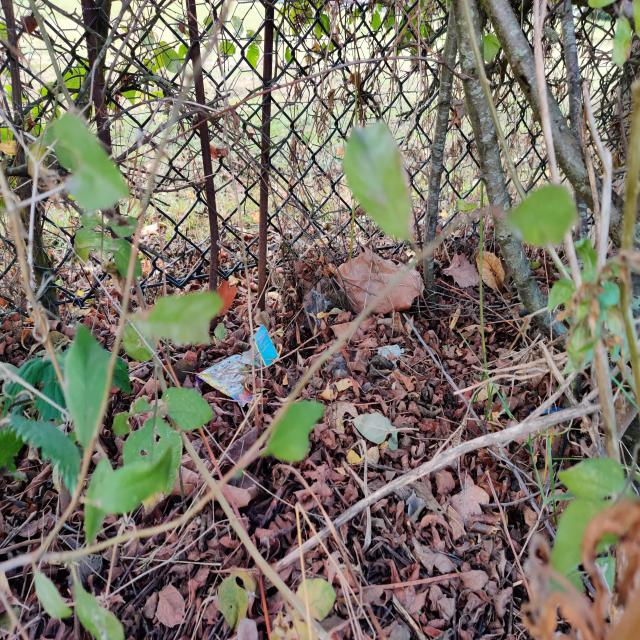litter: (178, 339, 275, 399)
